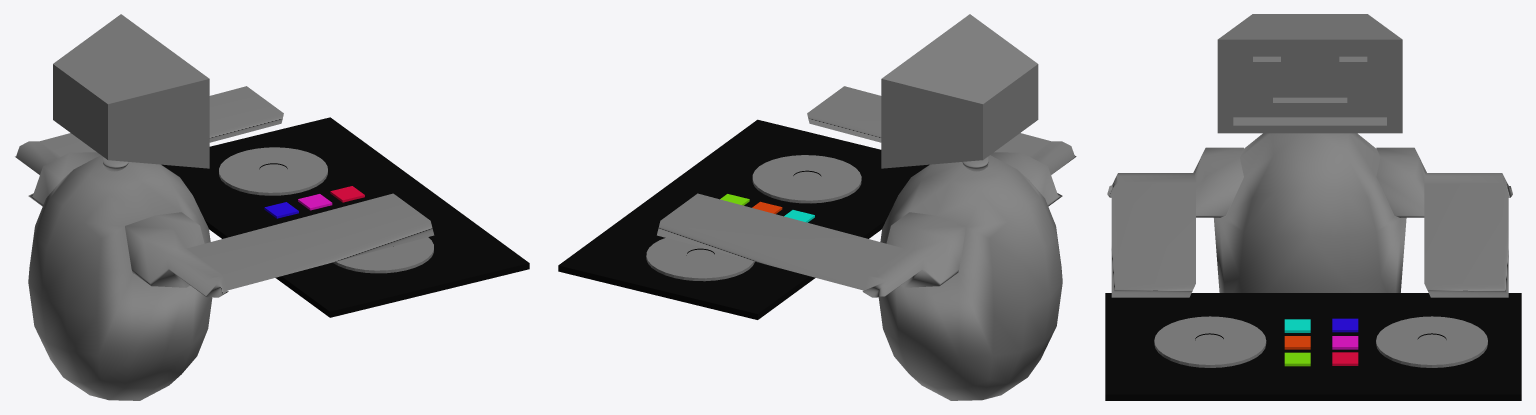
Rendered from DjEnemigo.fbx.
The picture shows the model from 3 angles, left to right: view 1: azimuth 30°, elevation 25°; view 2: azimuth 150°, elevation 25°; view 3: azimuth 270°, elevation 25°; orthographic projection. The views are drawn at different scales.
Parts seen in each view (by area): view 1: Cylinder; view 2: Cylinder; view 3: Cylinder.
Part boxes in pixels (bbox=[...]): Cylinder: bbox=[15, 14, 529, 400]; Cylinder: bbox=[558, 14, 1076, 400]; Cylinder: bbox=[1105, 14, 1521, 400].
Bounding box in the file's own units: 82.38 × 68.26 × 72.81.
